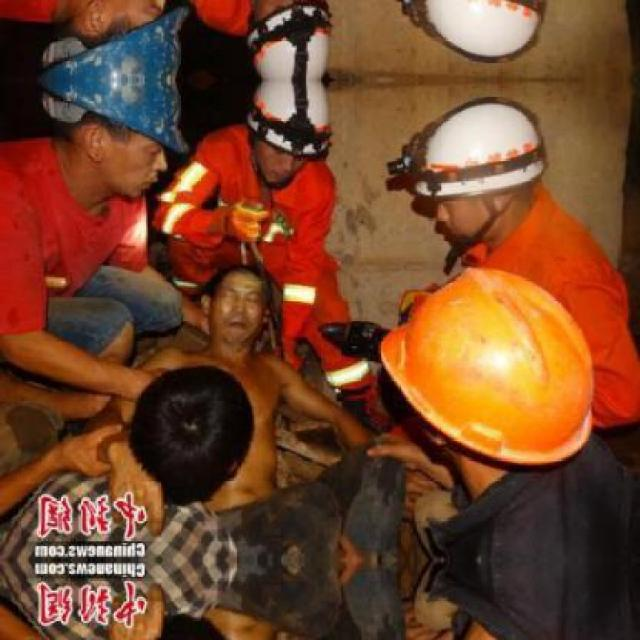Reflective-Jacket: (368, 265, 609, 469), (168, 119, 355, 312), (158, 1, 350, 48)
Safety-Helmet: (368, 261, 610, 474), (34, 9, 201, 166), (386, 94, 569, 217), (246, 76, 340, 166)
